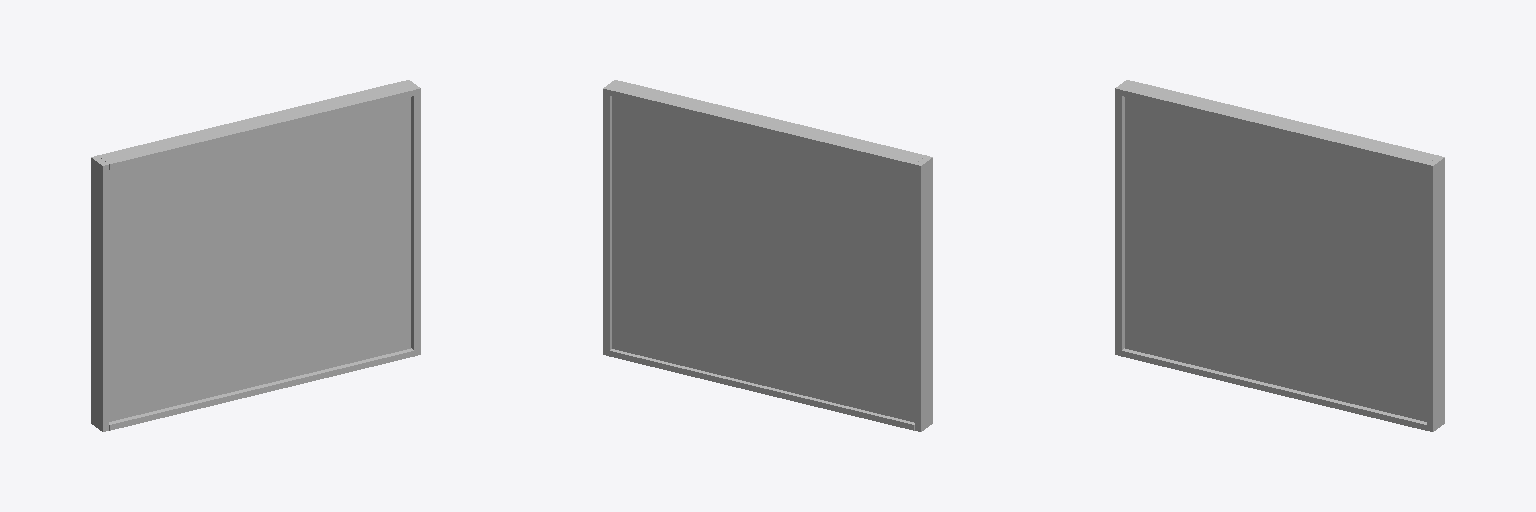
Rendered from quadro.obj.
The picture shows the model from 3 angles: view 1: azimuth 30°, elevation 25°; view 2: azimuth 150°, elevation 25°; view 3: azimuth 330°, elevation 25°; orthographic projection.
Parts seen in each view (by area): view 1: quadro_Cube, Cube.004_Cube.009, Cube.002_Cube.007, Cube.003_Cube.006, Cube.001_Cube.008; view 2: quadro_Cube, Cube.004_Cube.009, Cube.002_Cube.007, Cube.003_Cube.006, Cube.001_Cube.008; view 3: quadro_Cube, Cube.004_Cube.009, Cube.001_Cube.008, Cube.003_Cube.006, Cube.002_Cube.007.
Boxes of the visible parts, x1,y1,x2,y2 form: quadro_Cube: [109, 97, 410, 421]; Cube.004_Cube.009: [97, 81, 414, 169]; Cube.002_Cube.007: [91, 156, 108, 431]; Cube.003_Cube.006: [109, 348, 414, 430]; Cube.001_Cube.008: [404, 80, 420, 355]; quadro_Cube: [612, 97, 914, 422]; Cube.004_Cube.009: [609, 81, 926, 169]; Cube.002_Cube.007: [914, 156, 932, 431]; Cube.003_Cube.006: [609, 349, 914, 430]; Cube.001_Cube.008: [603, 80, 619, 355]; quadro_Cube: [1125, 97, 1426, 421]; Cube.004_Cube.009: [1121, 81, 1438, 169]; Cube.001_Cube.008: [1427, 156, 1444, 431]; Cube.003_Cube.006: [1121, 348, 1426, 430]; Cube.002_Cube.007: [1115, 80, 1132, 355].
Size of the model in its own units: 2.1 by 1.68 by 0.1391.